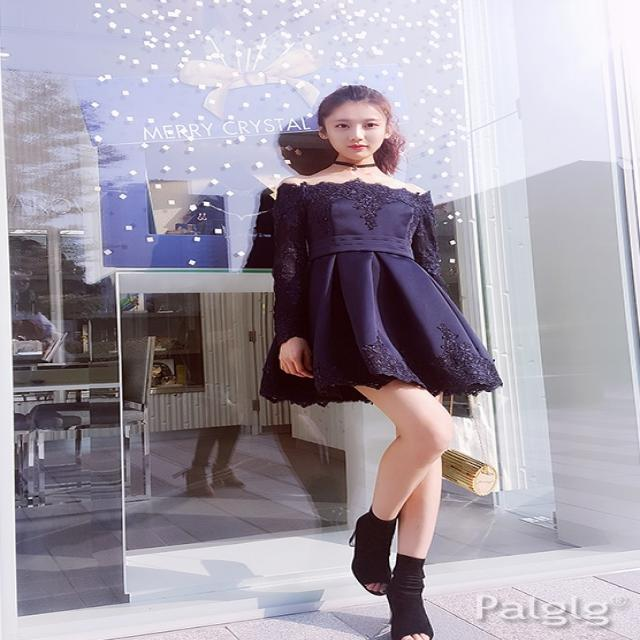clothes: (258, 174, 504, 408)
